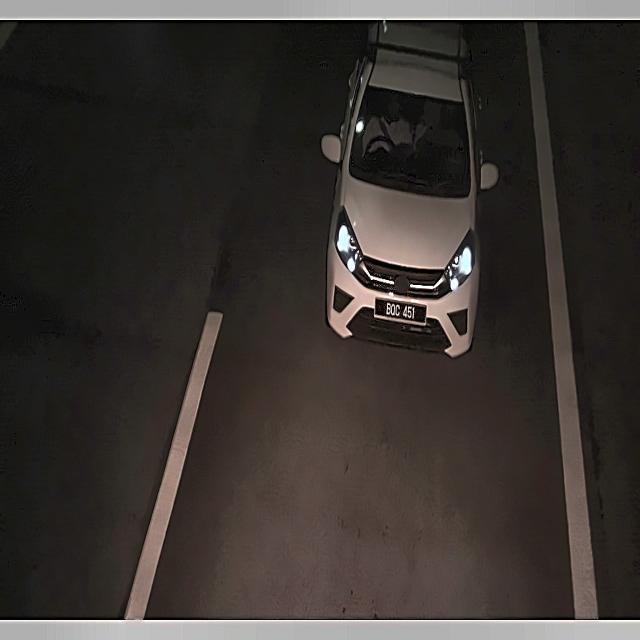car: (374, 298, 428, 329)
